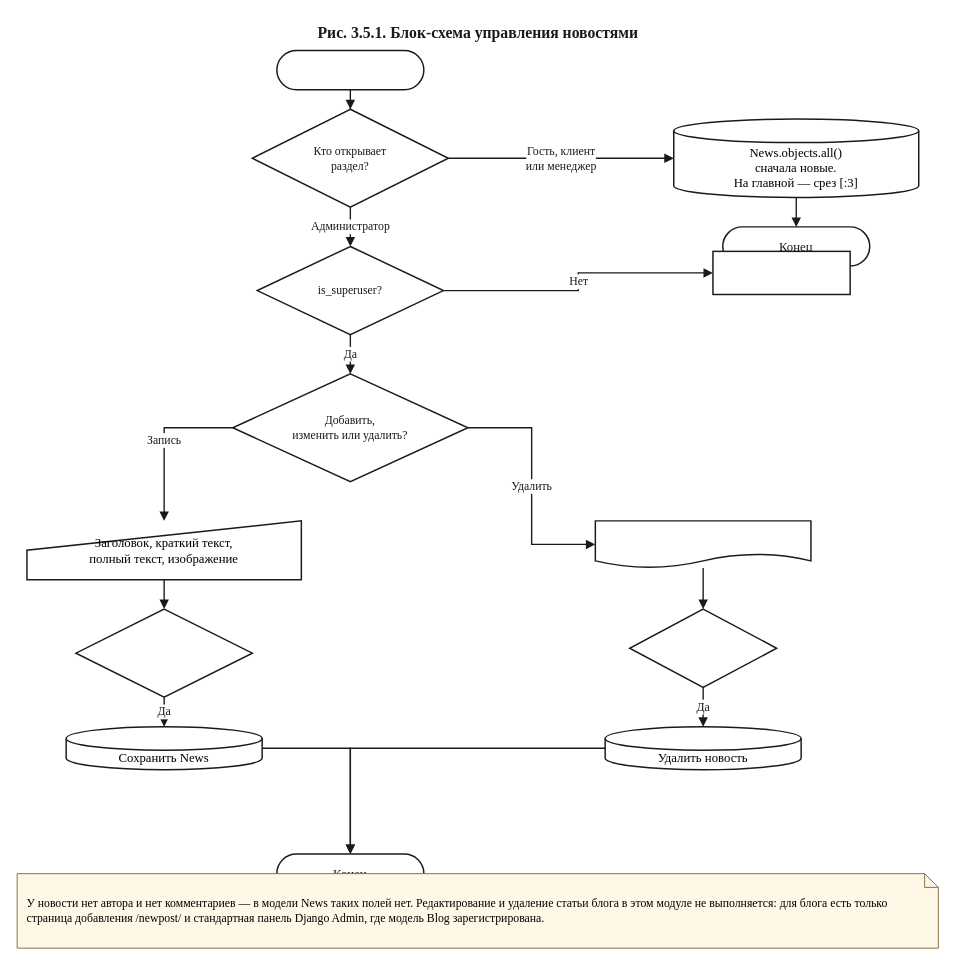
This 956x965 diagram has some shape labels left out. The shapes that lost their labels are listed below. From the top down, each one's centre as x and y in pixels, then its label:
At pixel 350 69: "Начало".
At pixel 781 272: "Отказ".
At pixel 702 544: "Подтверждение удаления".
At pixel 164 653: "Форма верна?".
At pixel 702 648: "POST?".
